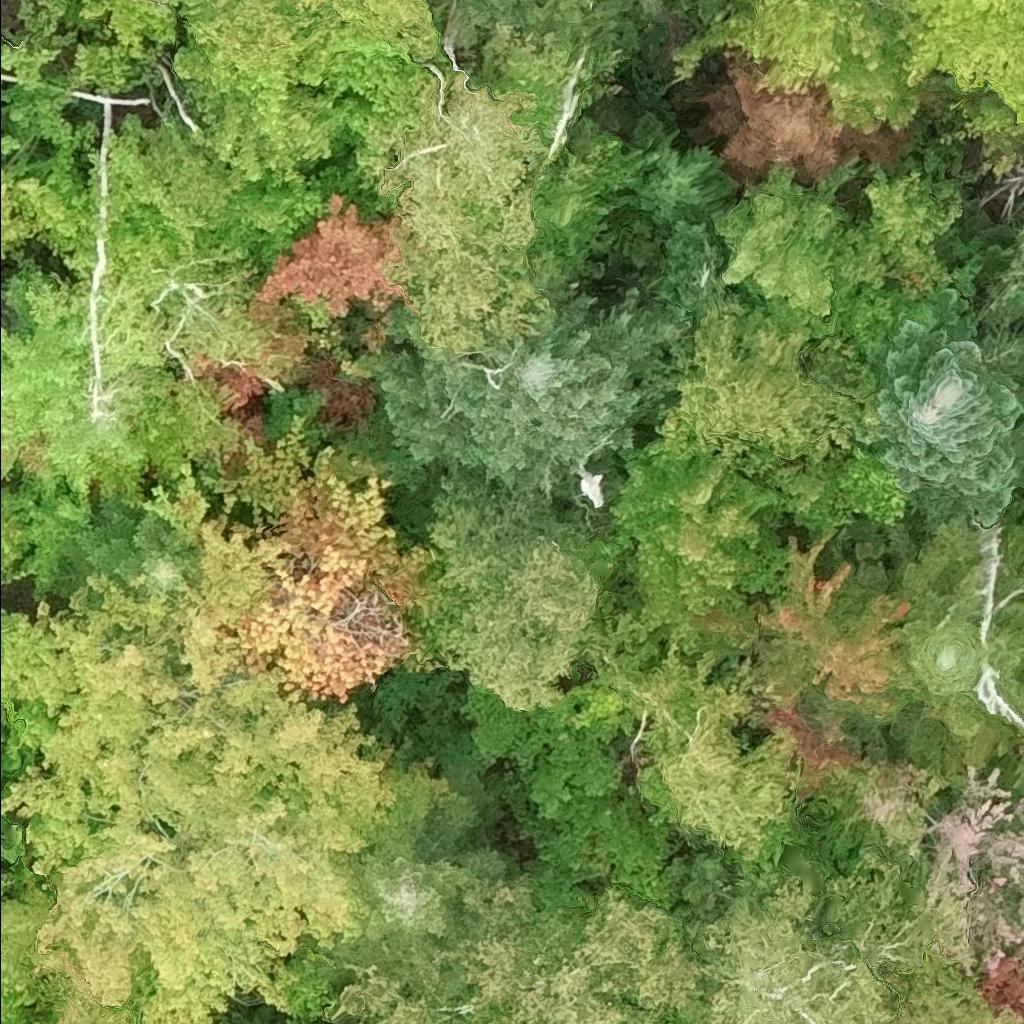crown: (0, 516, 485, 1023), (368, 281, 694, 499), (215, 412, 436, 709), (0, 249, 243, 513), (330, 870, 718, 1023), (679, 854, 1023, 1023), (577, 610, 799, 865), (381, 72, 556, 354), (410, 469, 599, 712), (650, 300, 880, 485), (884, 512, 1023, 791), (609, 439, 783, 658), (858, 307, 1023, 534), (59, 111, 254, 298), (670, 0, 921, 134), (698, 44, 913, 184), (349, 810, 524, 966), (251, 193, 425, 347), (453, 678, 626, 823), (0, 874, 152, 1023), (876, 0, 1023, 142), (534, 118, 660, 262), (321, 26, 431, 188), (173, 0, 346, 103), (745, 527, 854, 690), (196, 86, 369, 187), (713, 190, 835, 333), (53, 502, 201, 603), (621, 109, 740, 233), (861, 148, 963, 286), (811, 589, 914, 709), (202, 169, 330, 265), (450, 0, 670, 52), (0, 491, 94, 599), (0, 152, 89, 259), (136, 457, 212, 547), (0, 0, 75, 91), (76, 0, 182, 54), (975, 164, 1023, 219), (996, 528, 1023, 594), (1, 1008, 44, 1023), (0, 131, 18, 155), (299, 0, 337, 11), (699, 0, 722, 13), (1019, 779, 1023, 789), (154, 0, 180, 1)
